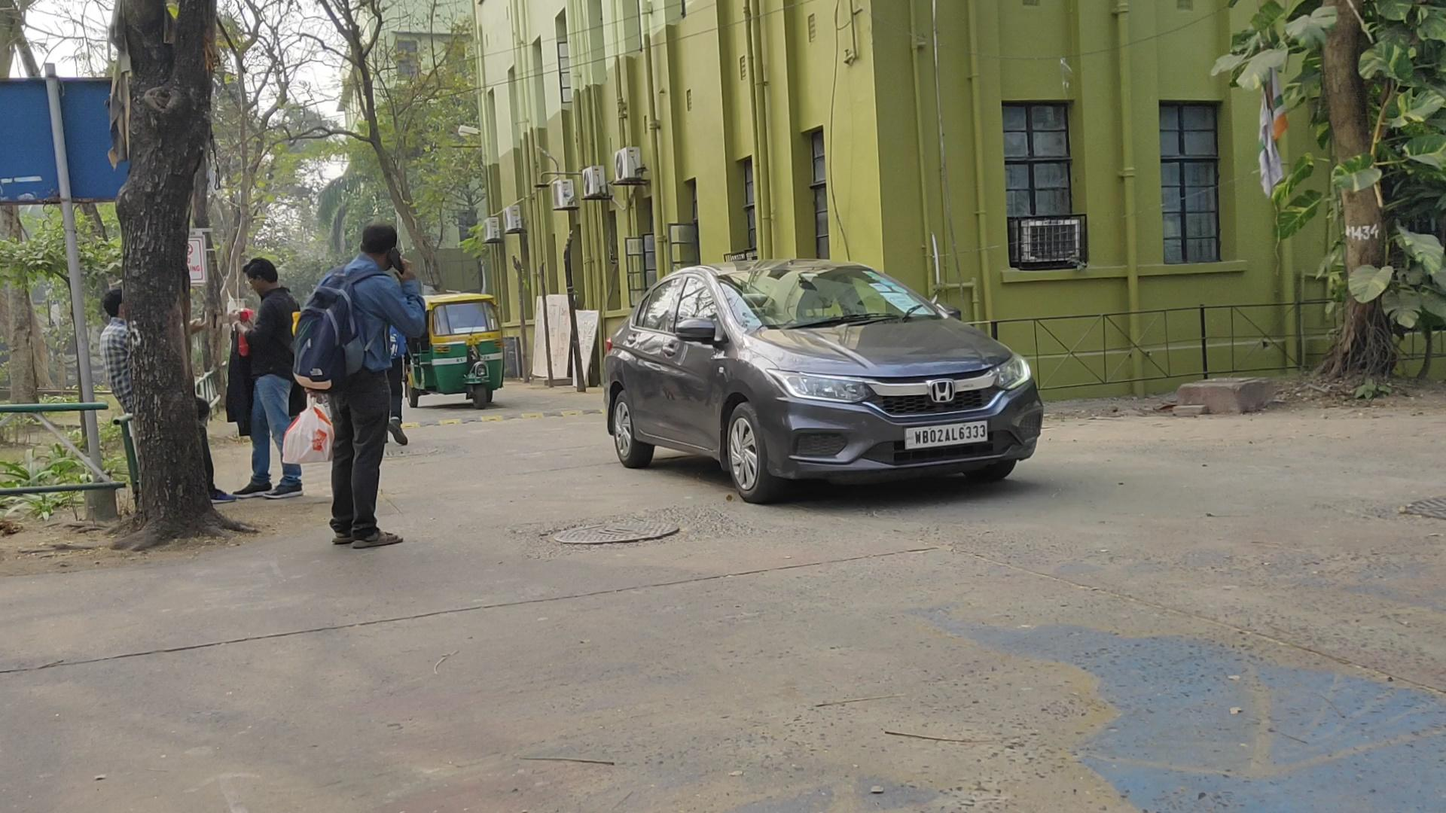Auto: (404, 292, 505, 410)
car: (603, 260, 1044, 504)
